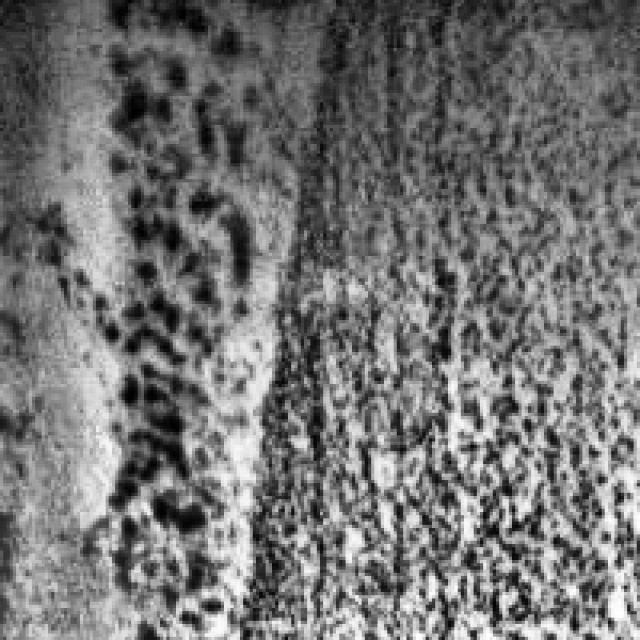Rolled_in_Scale: (272, 0, 637, 634), (74, 0, 262, 557)
